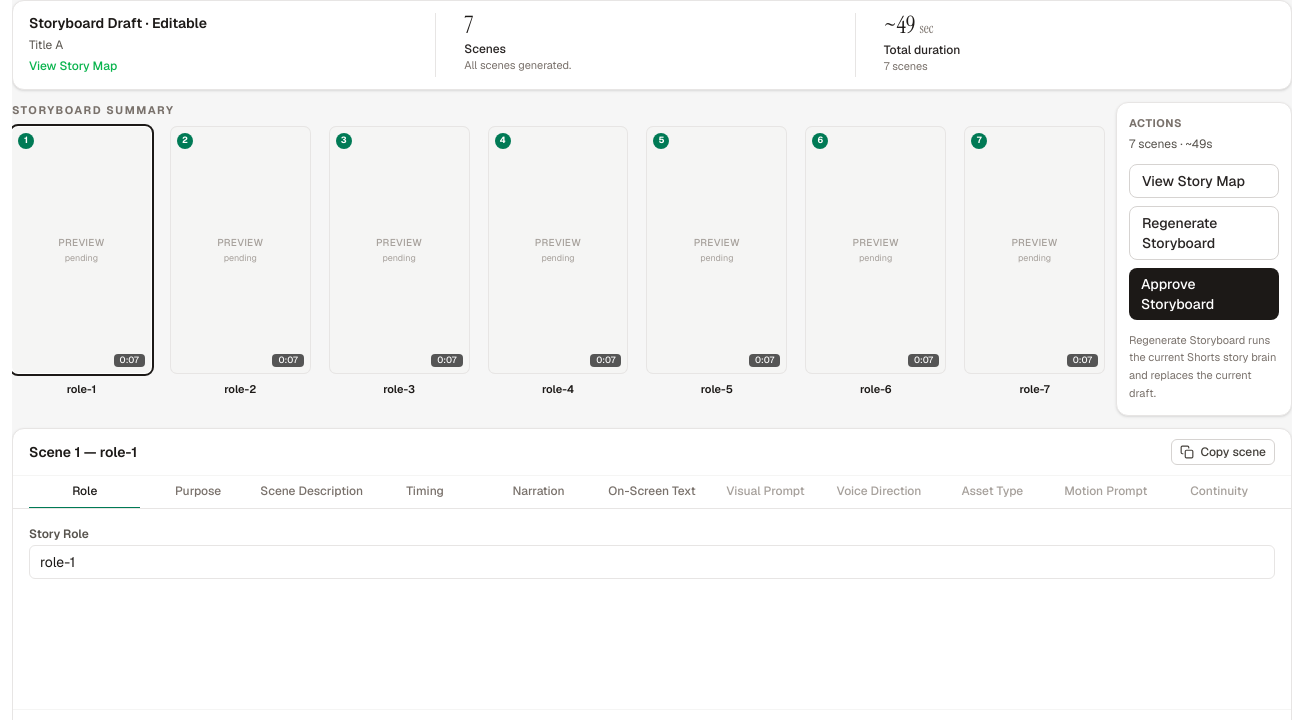
Test: storyboard workspace UI › switching tabs does not mutate story state
Step 1. Click the tab "Purpose" → (198,492), box [142, 476, 254, 509]
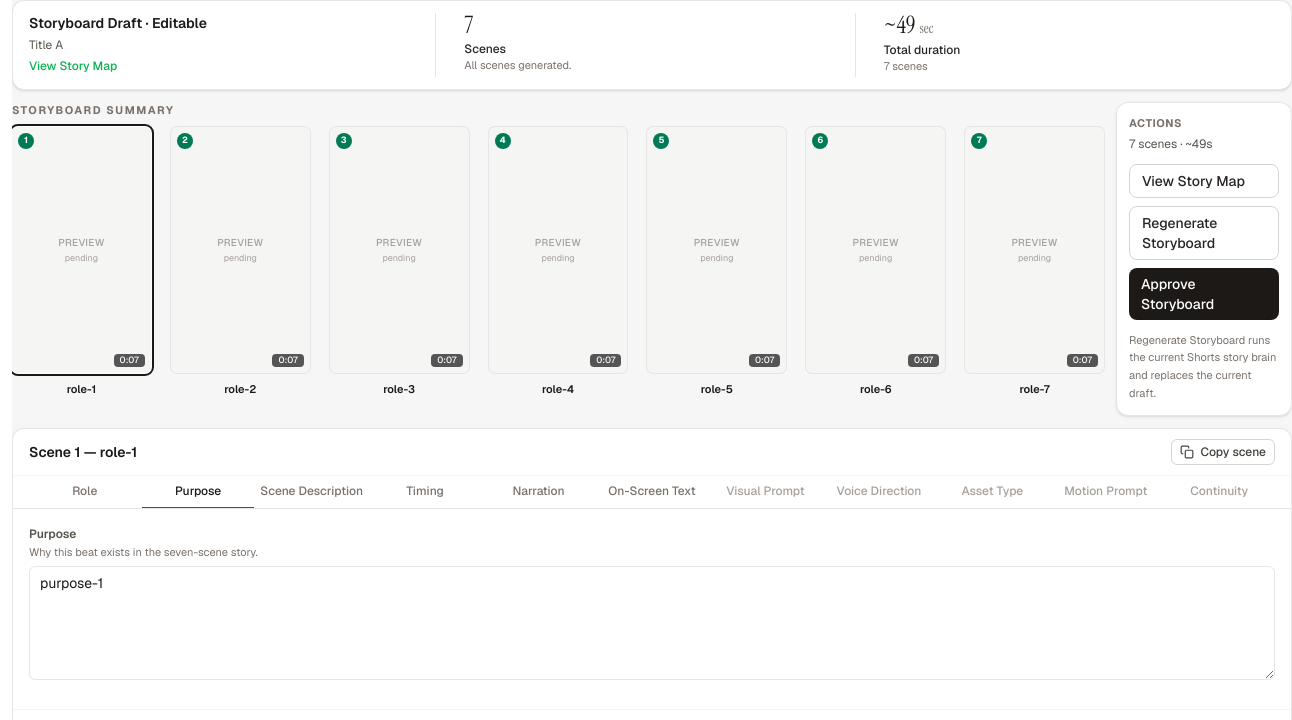
Step 2. Click the tab "Narration" → (539,492), box [483, 476, 594, 509]
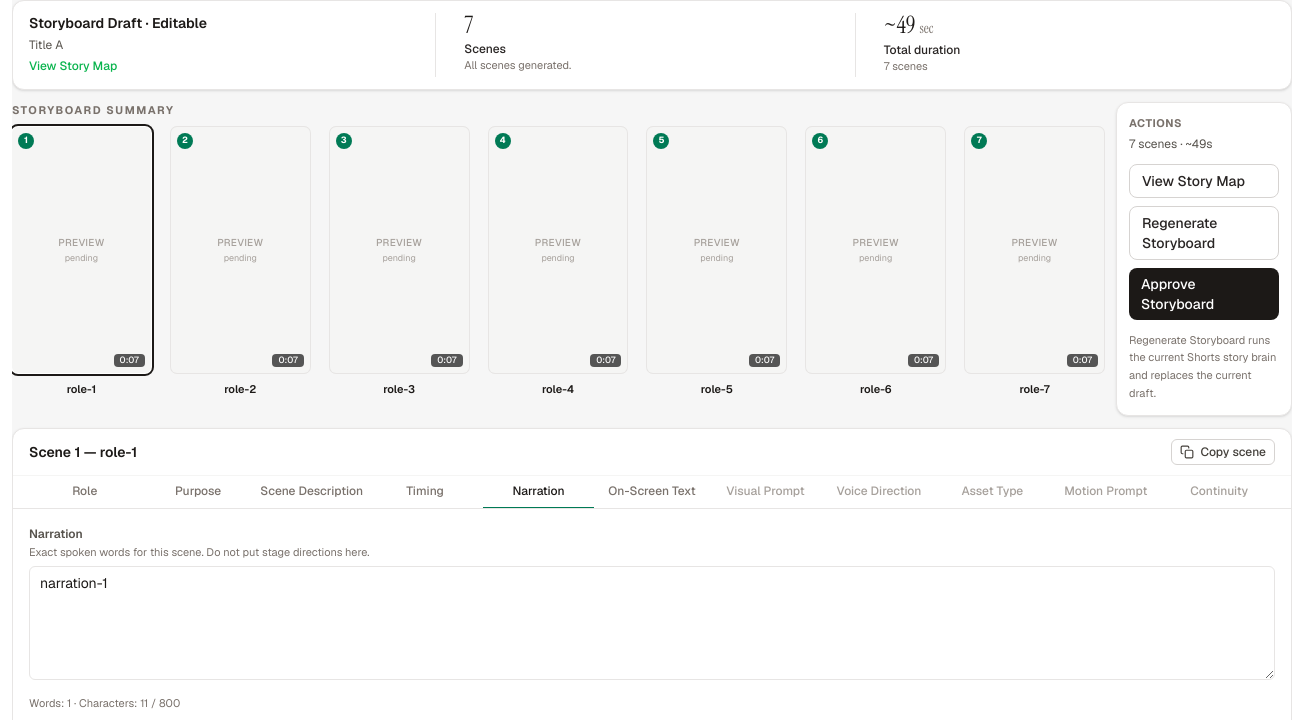
Check: the text box holds "narration-1", box [29, 566, 1275, 680]
